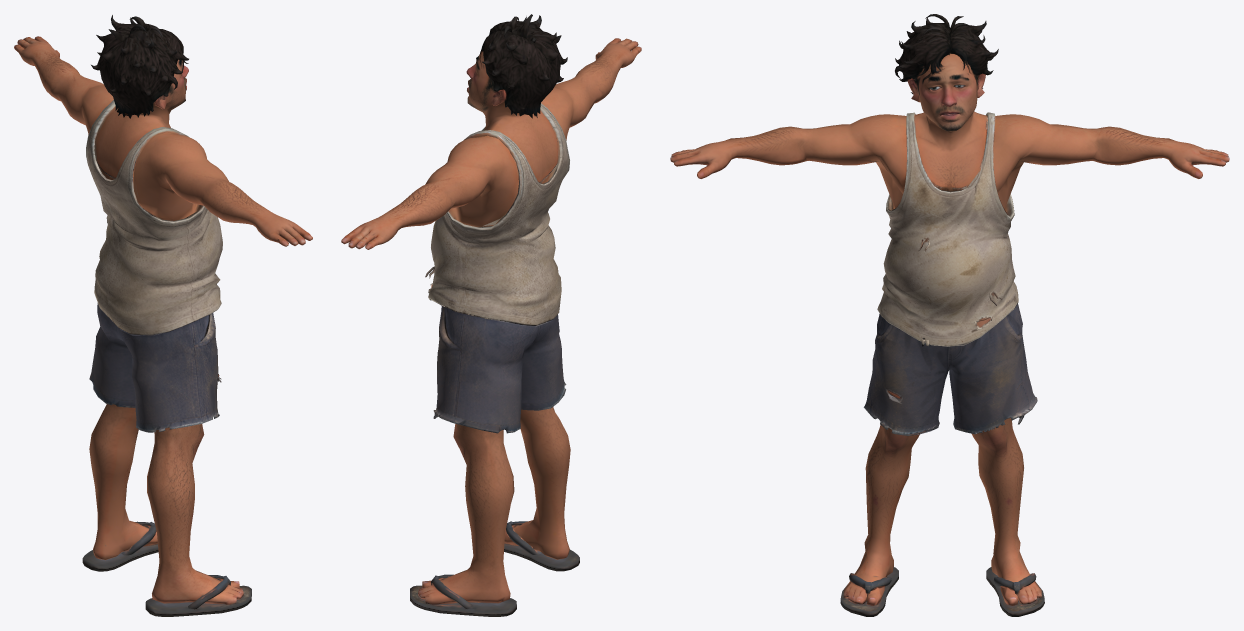
Rendered from tripo_convert_e0a5a75d-2e02-48fc-8ce9-11593ab4b538.glb.
3 renders of one model, left to right at view 1: azimuth 30°, elevation 25°; view 2: azimuth 150°, elevation 25°; view 3: azimuth 270°, elevation 25°, orthographic.
Visible parts, largest first — view 1: tripo_node_e0a5a75d-2e02-48fc-8ce9-11593ab4b538; view 2: tripo_node_e0a5a75d-2e02-48fc-8ce9-11593ab4b538; view 3: tripo_node_e0a5a75d-2e02-48fc-8ce9-11593ab4b538.
Boxes of the visible parts, x1,y1,x2,y2 form: tripo_node_e0a5a75d-2e02-48fc-8ce9-11593ab4b538: [14, 15, 312, 616]; tripo_node_e0a5a75d-2e02-48fc-8ce9-11593ab4b538: [341, 14, 641, 616]; tripo_node_e0a5a75d-2e02-48fc-8ce9-11593ab4b538: [670, 14, 1229, 616].
Bounding box in the file's own units: 0.2202 × 0.9995 × 0.897.
1 material, 1 textured.
